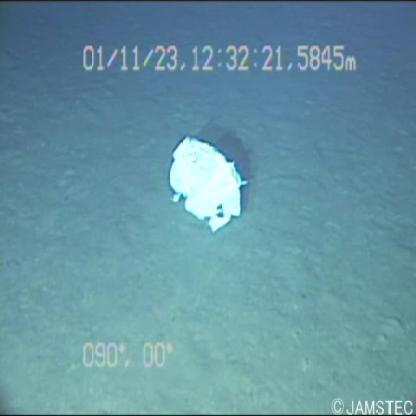Rác: (155, 125, 255, 241)
